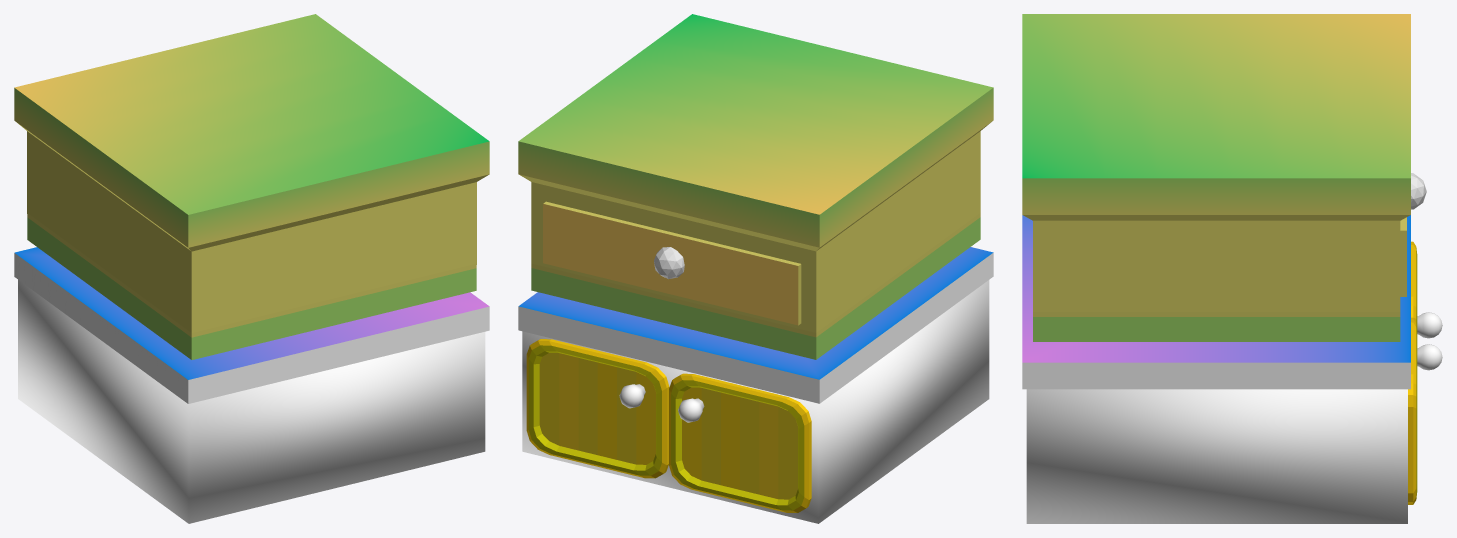
File: TortillaStack.fbx
3 renders of one model, left to right at view 1: azimuth 30°, elevation 25°; view 2: azimuth 150°, elevation 25°; view 3: azimuth 270°, elevation 25°, orthographic. The views are drawn at different scales.
Parts seen in each view (by area): view 1: Base, Counter, Top, Counter Top, Counter Surface; view 2: Base, Top, Counter Doors, Counter, Counter Top, Counter Surface, Handles, Handle; view 3: Top, Base, Counter, Counter Top, Counter Surface, Counter Doors, Handles.
Part boxes in pixels (<box>): Base: <box>14,88,489,359</box>; Counter: <box>18,280,485,523</box>; Top: <box>14,14,489,214</box>; Counter Top: <box>14,253,489,403</box>; Counter Surface: <box>14,247,489,379</box>; Base: <box>518,88,993,359</box>; Top: <box>519,14,993,214</box>; Counter Doors: <box>526,339,811,512</box>; Counter: <box>522,280,989,523</box>; Counter Top: <box>518,253,993,403</box>; Counter Surface: <box>519,247,993,379</box>; Handles: <box>619,384,704,422</box>; Handle: <box>654,247,684,279</box>; Top: <box>1022,14,1410,178</box>; Base: <box>1022,178,1410,341</box>; Counter: <box>1026,389,1407,523</box>; Counter Top: <box>1022,362,1410,389</box>; Counter Surface: <box>1022,215,1410,362</box>; Counter Doors: <box>1408,241,1417,504</box>; Handles: <box>1417,312,1442,370</box>.
Size of what is drawn, in the model's own units: 100 by 98.56 by 108.
